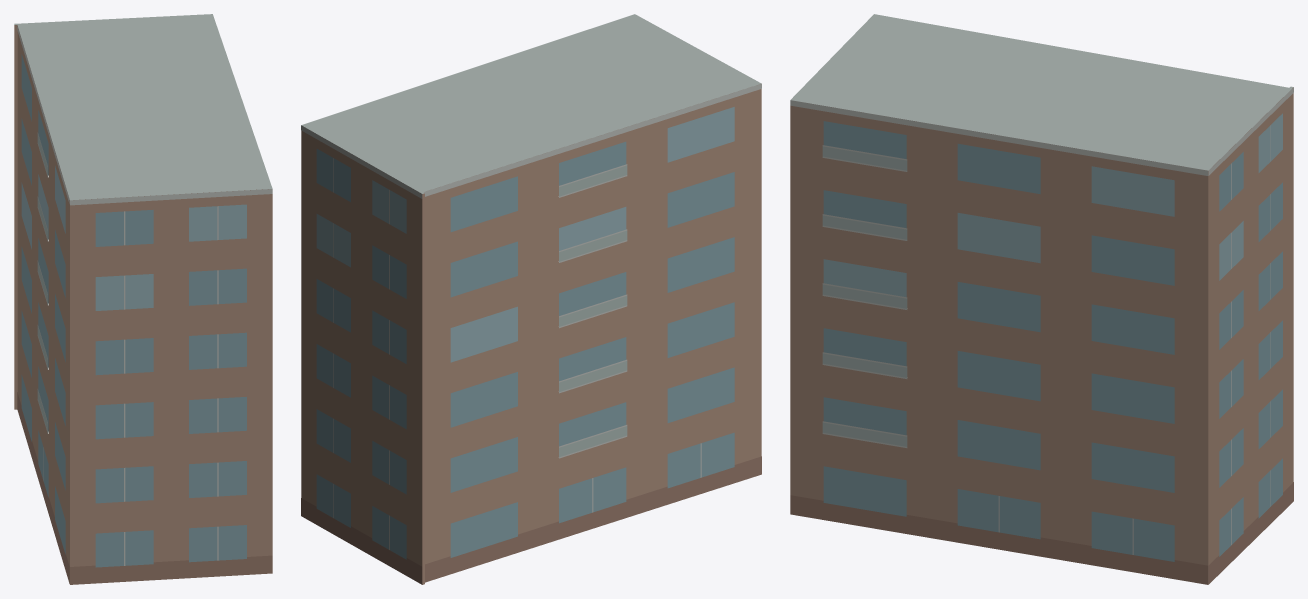
File: survey-upis-32740065.glb
3 views of the same model, side by side, from view 1: azimuth 30°, elevation 25°; view 2: azimuth 150°, elevation 25°; view 3: azimuth 270°, elevation 25° (orthographic). The views are drawn at different scales.
Parts seen in each view (by area): view 1: survey-upis-32740065.tmp; view 2: survey-upis-32740065.tmp; view 3: survey-upis-32740065.tmp.
Part boxes in pixels (bbox=[...]): survey-upis-32740065.tmp: bbox=[14, 14, 272, 584]; survey-upis-32740065.tmp: bbox=[301, 14, 761, 584]; survey-upis-32740065.tmp: bbox=[790, 14, 1293, 584].
Size of the model in its own units: 14.85 by 18.3 by 20.17.
